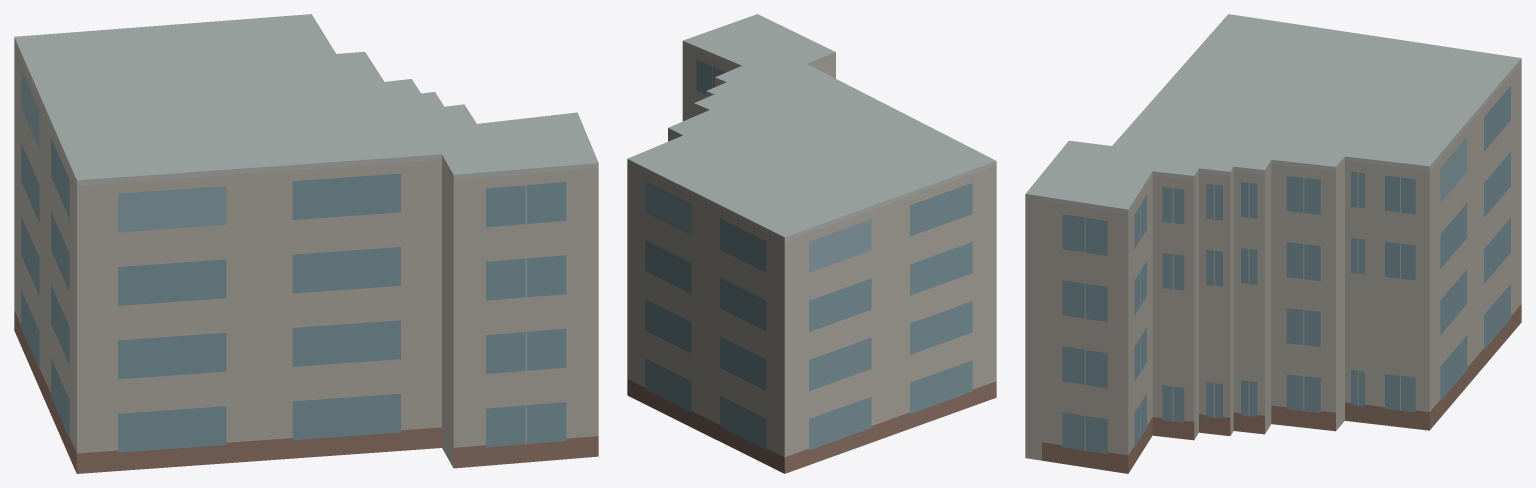
File: survey-upis-32713601.glb
The picture shows the model from 3 angles, left to right: view 1: azimuth 30°, elevation 25°; view 2: azimuth 150°, elevation 25°; view 3: azimuth 270°, elevation 25°; orthographic projection. The views are drawn at different scales.
Visible parts, largest first — view 1: survey-upis-32713601.tmp; view 2: survey-upis-32713601.tmp; view 3: survey-upis-32713601.tmp.
Boxes of the visible parts, bbox=[...] form: survey-upis-32713601.tmp: bbox=[14, 14, 598, 473]; survey-upis-32713601.tmp: bbox=[627, 14, 996, 473]; survey-upis-32713601.tmp: bbox=[1025, 14, 1521, 473].
Bounding box in the file's own units: 22.6 × 14.23 × 24.21.
